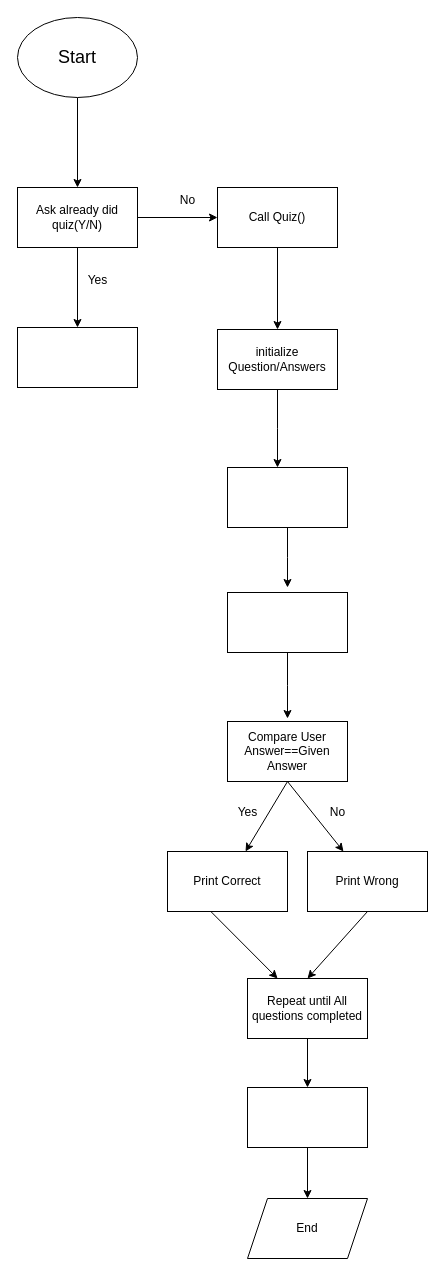
The diagram is 445 pixels wide and 1276 high, and some of its shapes have lost their labels. Each missing label, with the centre of its shape:
"Exit" goes at pixel 77 357.
"Get user's Answer" goes at pixel 287 622.
"Pick random question" goes at pixel 287 497.
"Summary" goes at pixel 307 1117.
